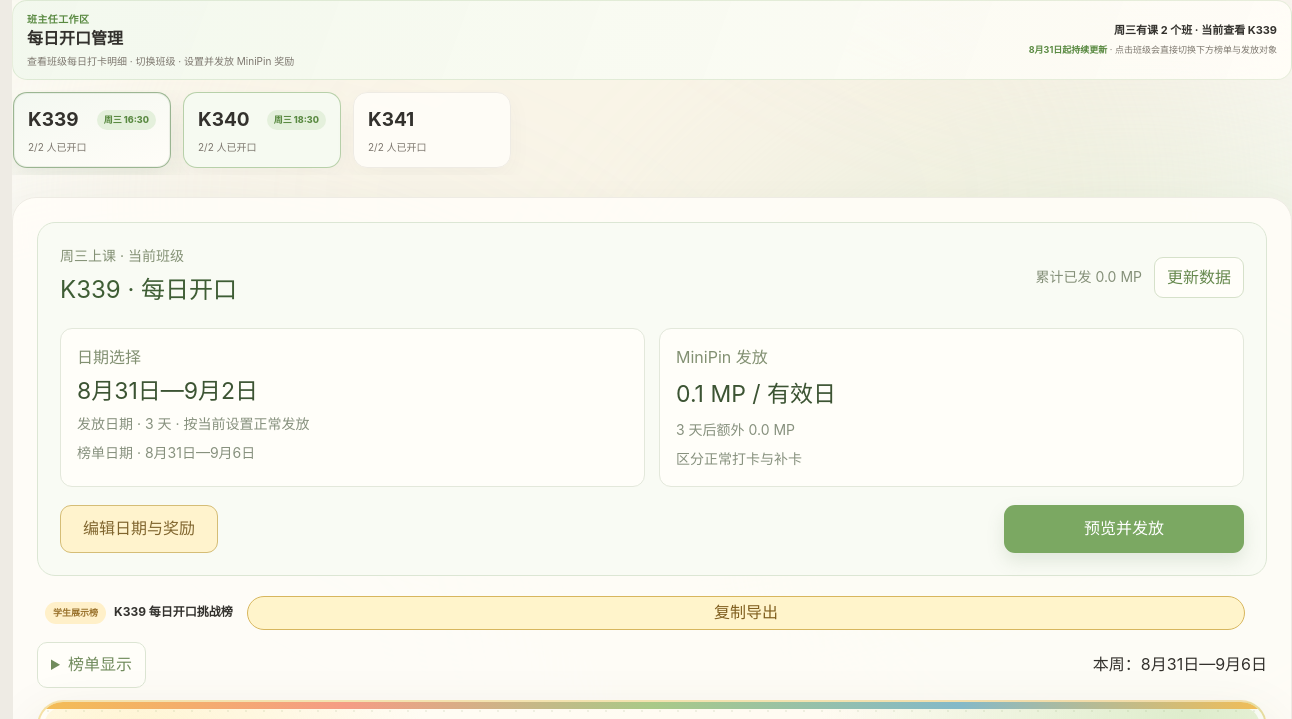
SpeakingChallengeApp › prepares every class in the background and replaces the board when another class is selected
Click the button with class "speaking-challenge__class-card" showing "K340 周三 18:30 2/2 人已开口": [262, 130] box x1=183 y1=92 x2=341 y2=168
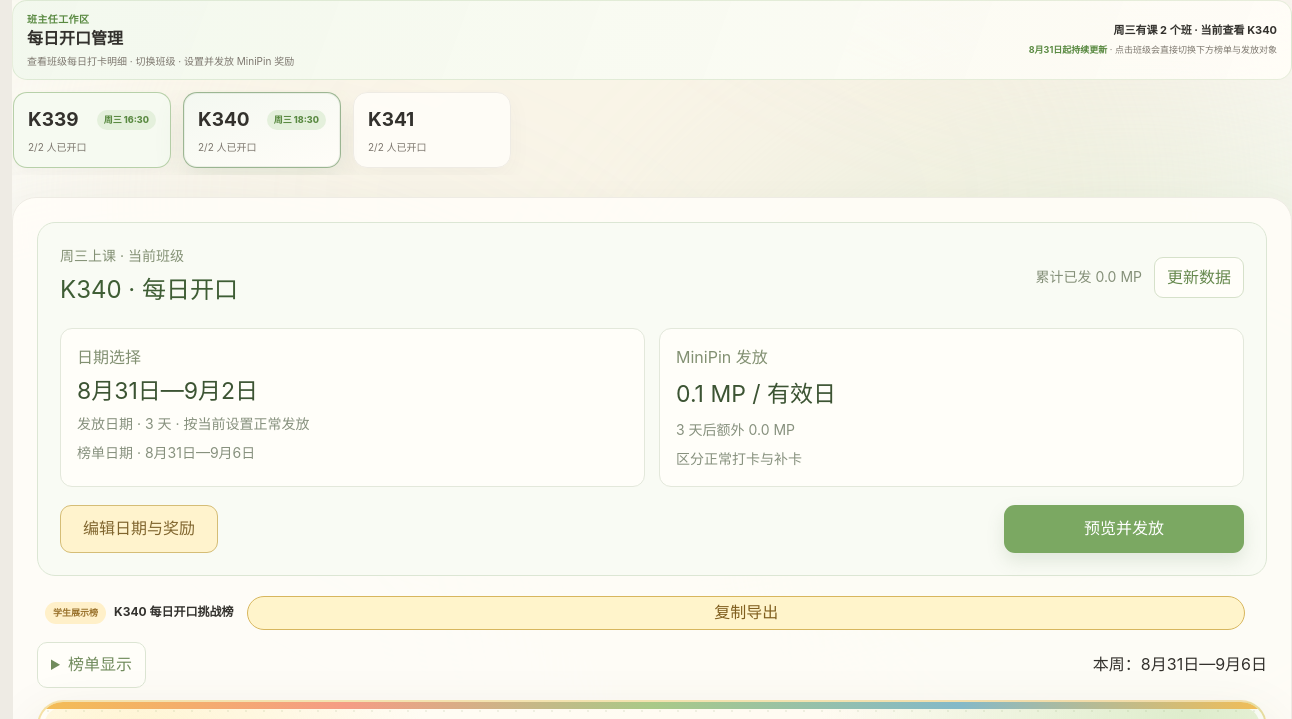
Expected: the text "K339" is not shown
Now the text "K340 每日开口挑战榜" is shown, box x1=114 y1=602 x2=233 y2=621
Now the text "有课 2 个班 · 当前查看 K340" is shown, box x1=1114 y1=23 x2=1277 y2=37
